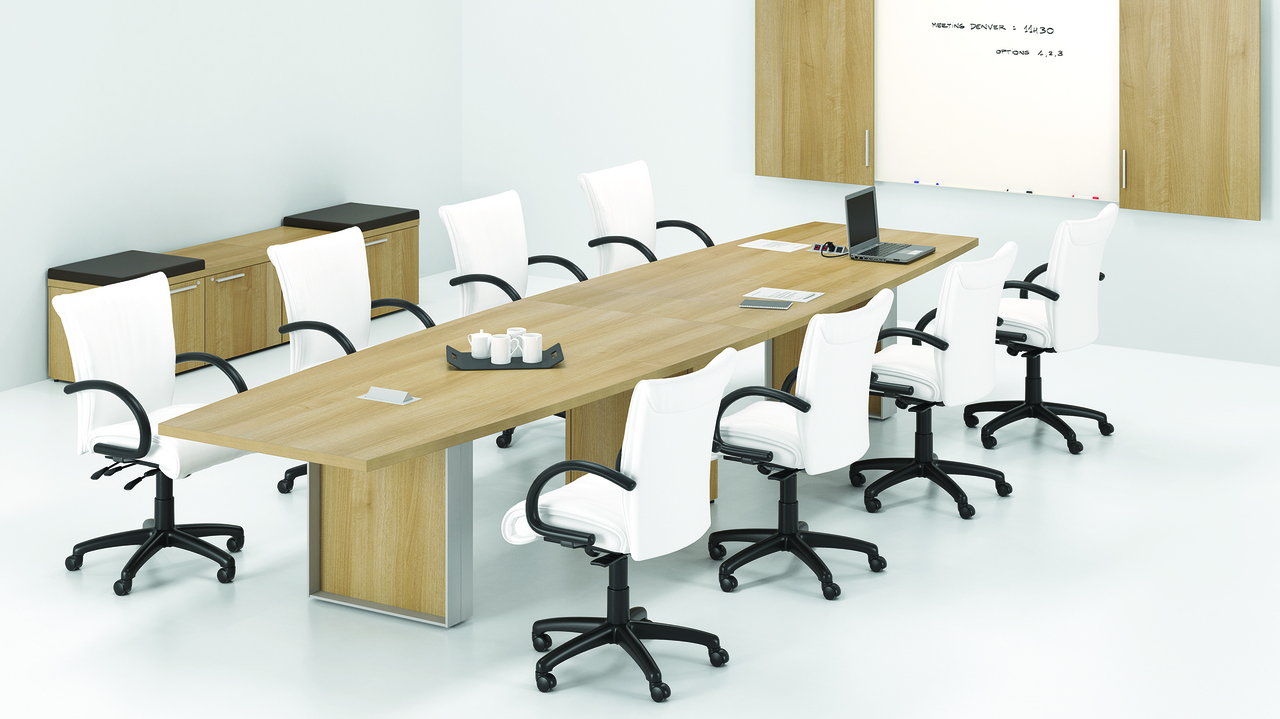conference_table: (159, 220, 979, 629)
